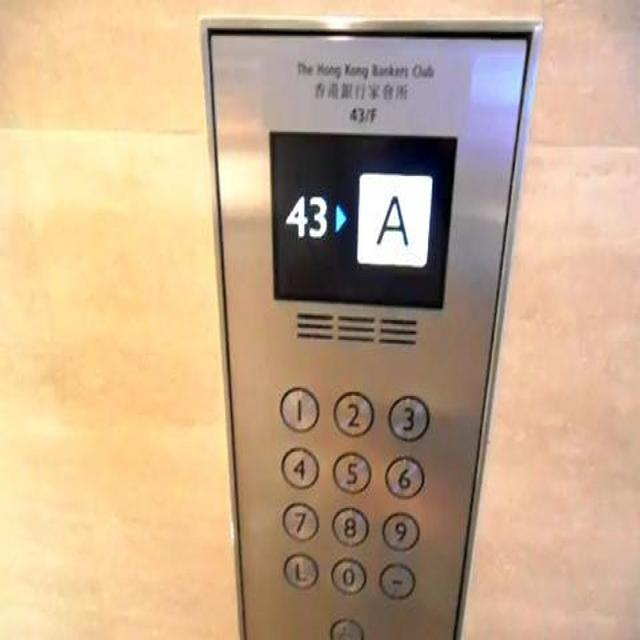-: (377, 559, 416, 601)
0: (329, 553, 368, 596)
1: (278, 382, 320, 434)
2: (330, 385, 375, 439)
3: (386, 392, 429, 443)
4: (279, 442, 320, 490)
5: (330, 448, 373, 495)
6: (382, 452, 425, 500)
7: (279, 496, 320, 543)
8: (329, 503, 370, 548)
9: (380, 506, 421, 554)
L: (280, 549, 320, 591)
led: (265, 124, 459, 313)
